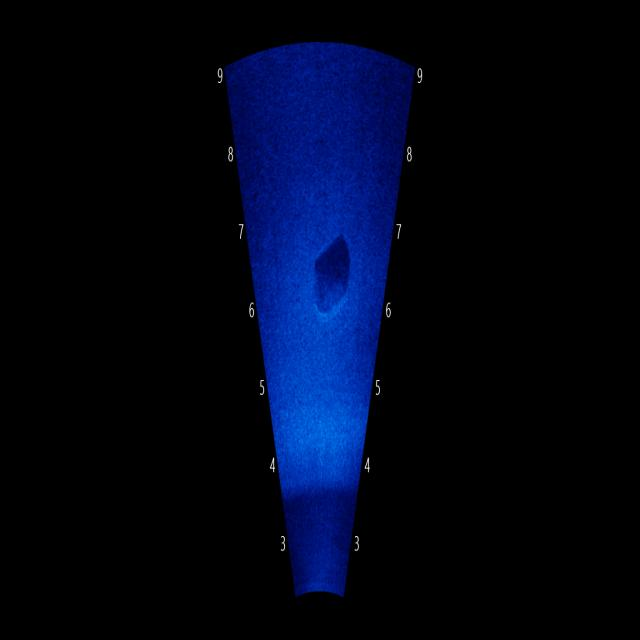square: (299, 222, 368, 340)
